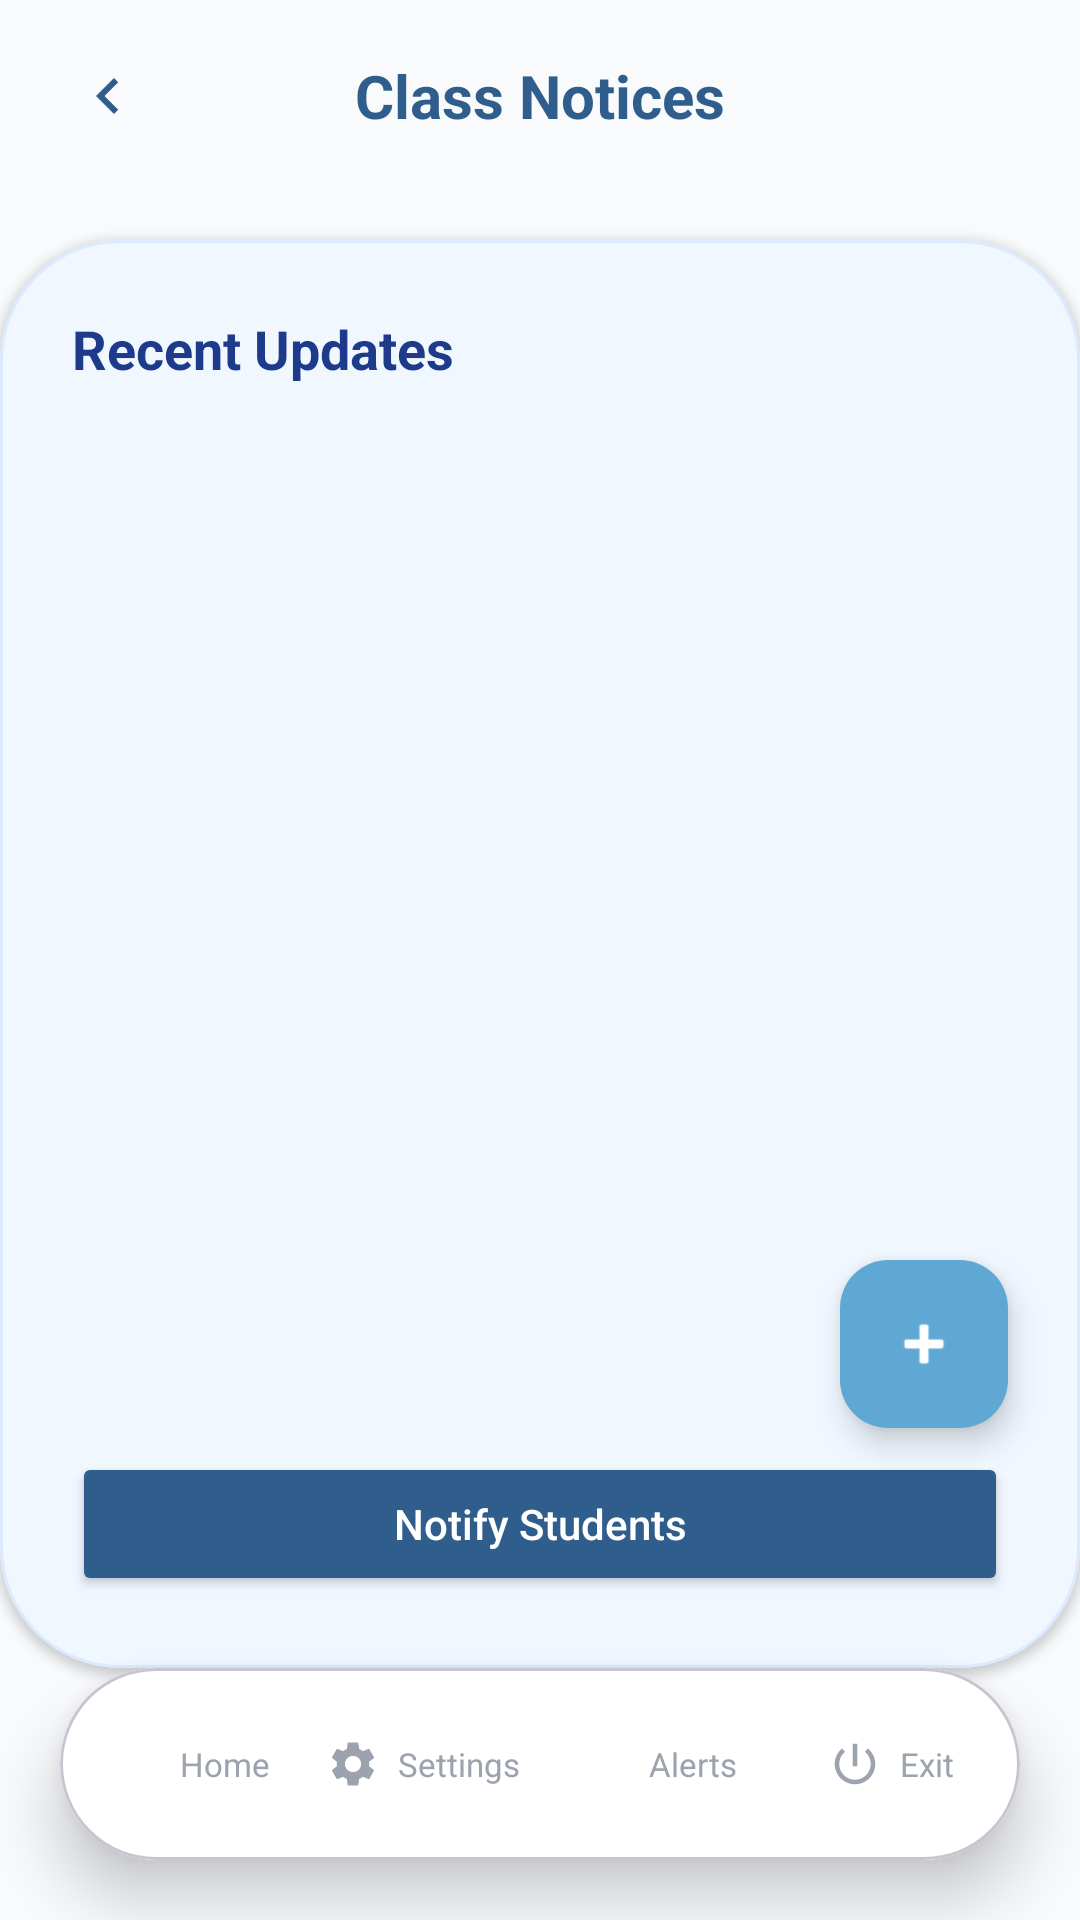

Screen size 1080px×1920px. Icon name, then its center in pixels as (x=x, y=y):
add: (x=924, y=1344)
back: (x=107, y=96)
